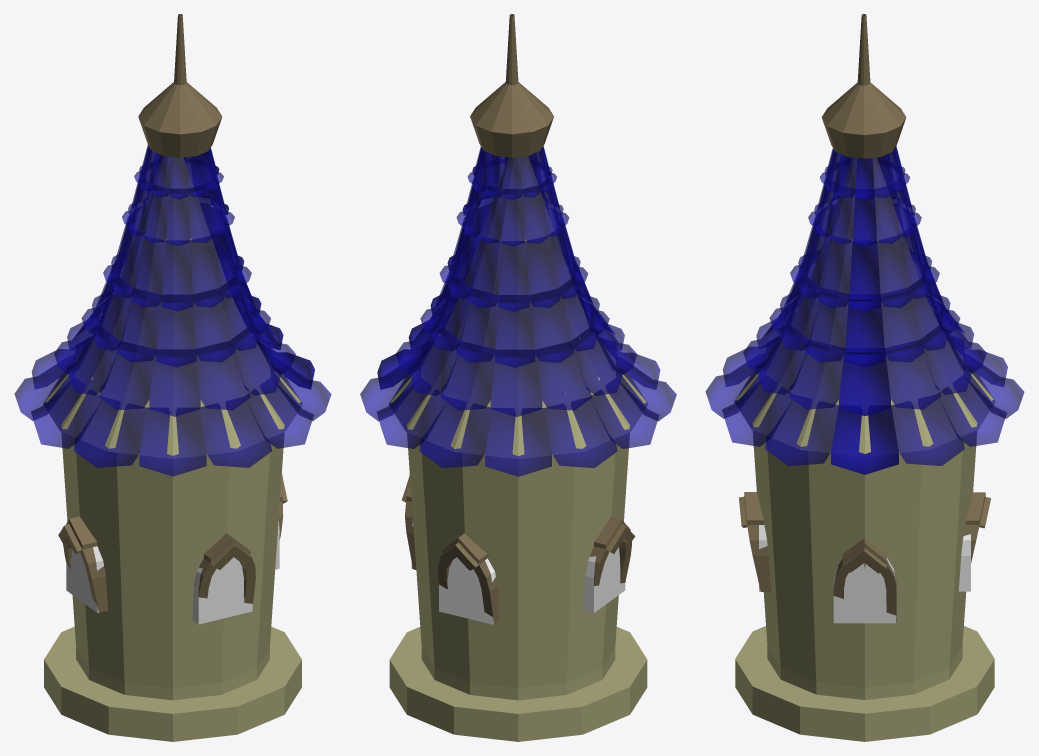
The model's file is Tower.glb.
The picture shows the model from 3 angles, left to right: view 1: azimuth 30°, elevation 25°; view 2: azimuth 150°, elevation 25°; view 3: azimuth 270°, elevation 25°; orthographic projection.
Visible parts, largest first — view 1: Circle, Circle.005, Circle.001, Plane.011, Plane.006, Plane.009, Plane.008; view 2: Circle, Circle.005, Circle.001, Plane.001, Plane, Plane.006, Plane.008, Plane.012; view 3: Circle, Circle.005, Circle.001, Plane.014, Plane.012, Plane.009, Plane, Plane.001.
Part boxes in pixels (x1=…): Circle: x1=43, y1=156, x2=302, y2=741; Circle.005: x1=14, y1=145, x2=331, y2=476; Circle.001: x1=138, y1=14, x2=222, y2=157; Plane.011: x1=192, y1=557, x2=252, y2=624; Plane.006: x1=58, y1=516, x2=107, y2=612; Plane.009: x1=198, y1=533, x2=255, y2=604; Plane.008: x1=66, y1=546, x2=103, y2=612; Circle: x1=389, y1=156, x2=647, y2=741; Circle.005: x1=360, y1=146, x2=676, y2=476; Circle.001: x1=470, y1=14, x2=553, y2=157; Plane.001: x1=439, y1=557, x2=495, y2=624; Plane: x1=438, y1=533, x2=499, y2=623; Plane.006: x1=590, y1=517, x2=635, y2=585; Plane.008: x1=583, y1=547, x2=625, y2=613; Plane.012: x1=402, y1=475, x2=416, y2=569; Circle: x1=734, y1=157, x2=995, y2=741; Circle.005: x1=705, y1=146, x2=1024, y2=474; Circle.001: x1=821, y1=14, x2=906, y2=158; Plane.014: x1=833, y1=558, x2=896, y2=623; Plane.012: x1=833, y1=538, x2=896, y2=622; Plane.009: x1=738, y1=492, x2=771, y2=591; Plane: x1=963, y1=492, x2=990, y2=562; Plane.001: x1=958, y1=534, x2=970, y2=591.
Bounding box in the file's own units: 3.27 × 7.64 × 3.27.
